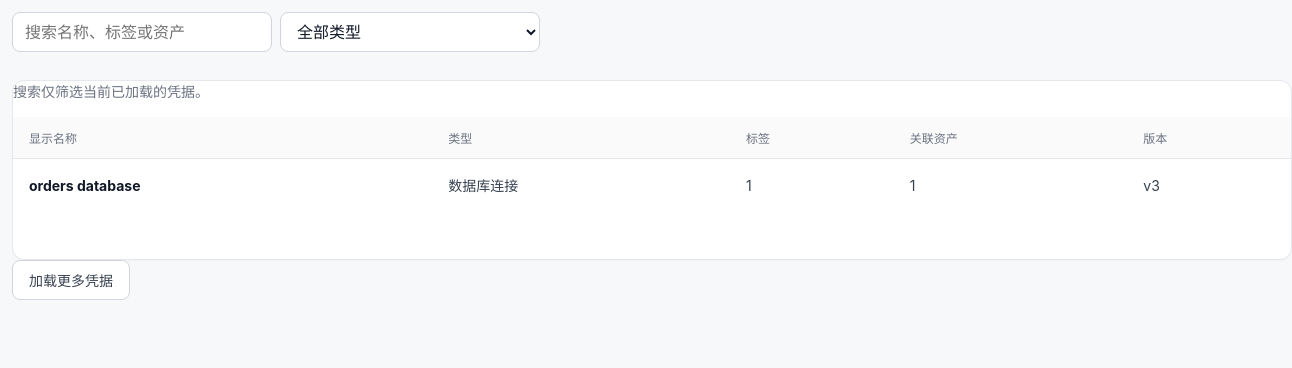
Test: credential workflows › retries failed credential cursors, rejects cycles, dedupes every page, and ignores stale retries
The image size is (1292, 368).
Expected: the number of buttons "orders database" is 1, [29, 173, 140, 198]
Click the button "加载更多凭据".
click(71, 280)  # box [12, 260, 130, 300]
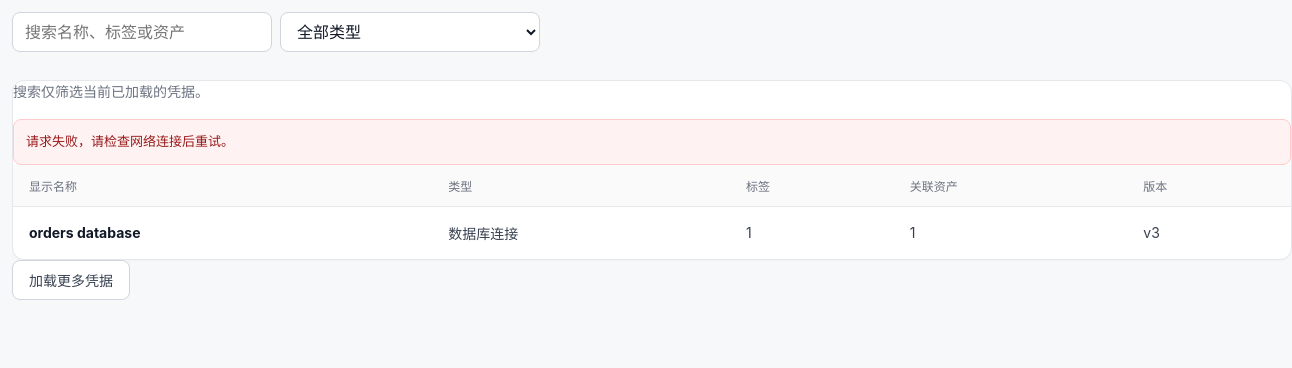
Expected: the message "请求失败，请检查网络连接后重试。" is shown, [13, 119, 1291, 165]
Click the button "加载更多凭据".
click(71, 280)  # box [12, 260, 130, 300]
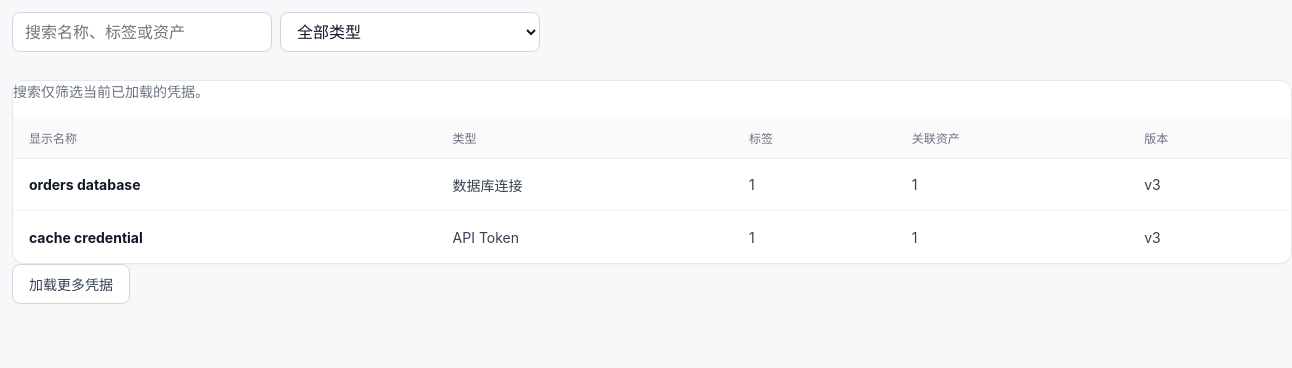
Expected: the number of buttons "cache credential" is 1, [29, 225, 143, 250]
Click the button "加载更多凭据".
click(71, 284)  # box [12, 264, 130, 304]
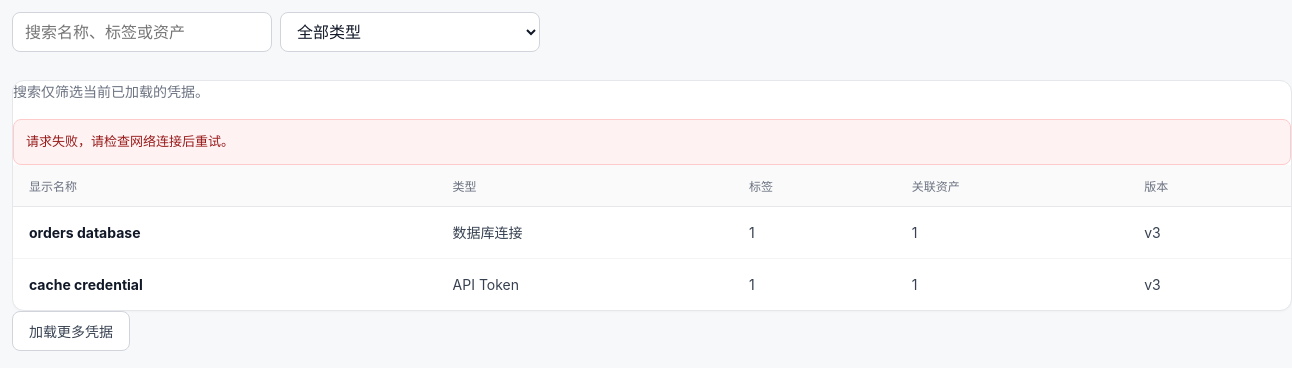
Click the button "加载更多凭据".
click(71, 331)  # box [12, 311, 130, 351]
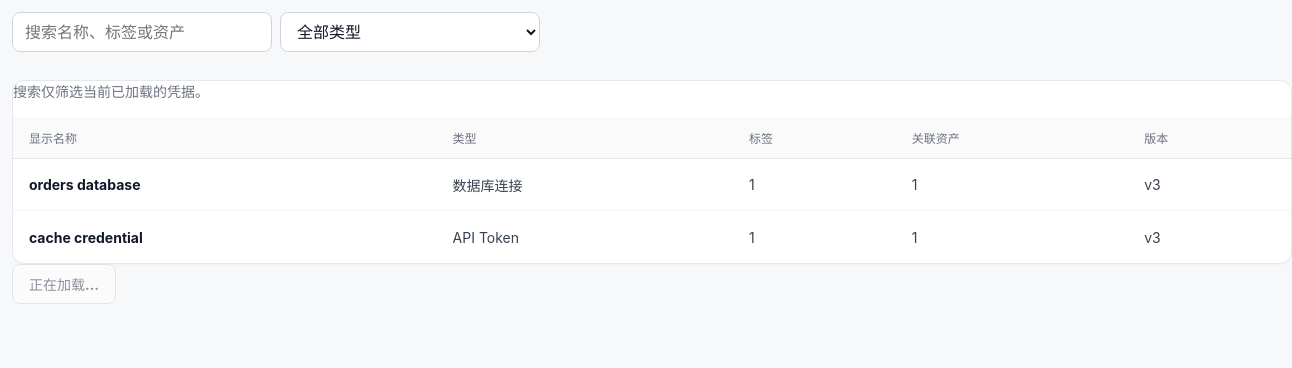
Select "登录账号" in the dropdown named "按类型筛选" at (410, 32), box [280, 12, 540, 52]
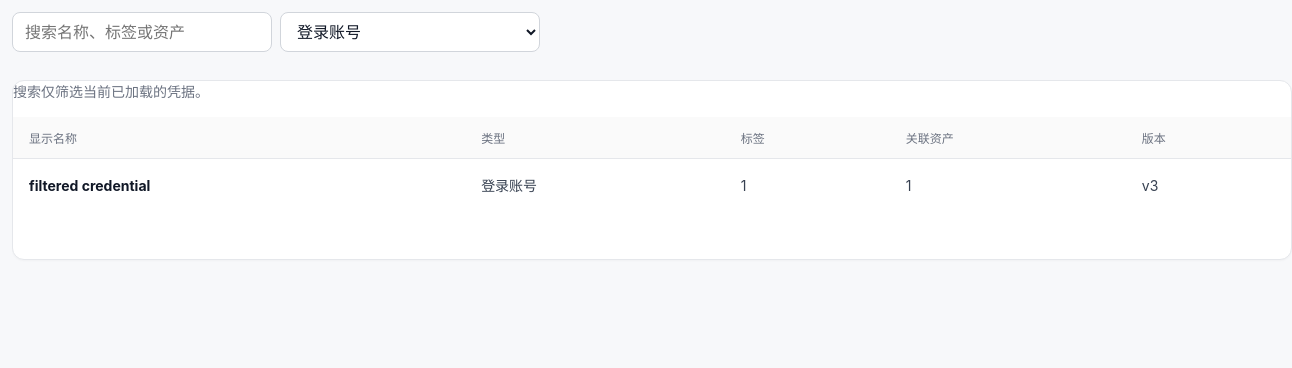
Expected: the number of buttons "filtered credential" is 1, [29, 173, 150, 198]
